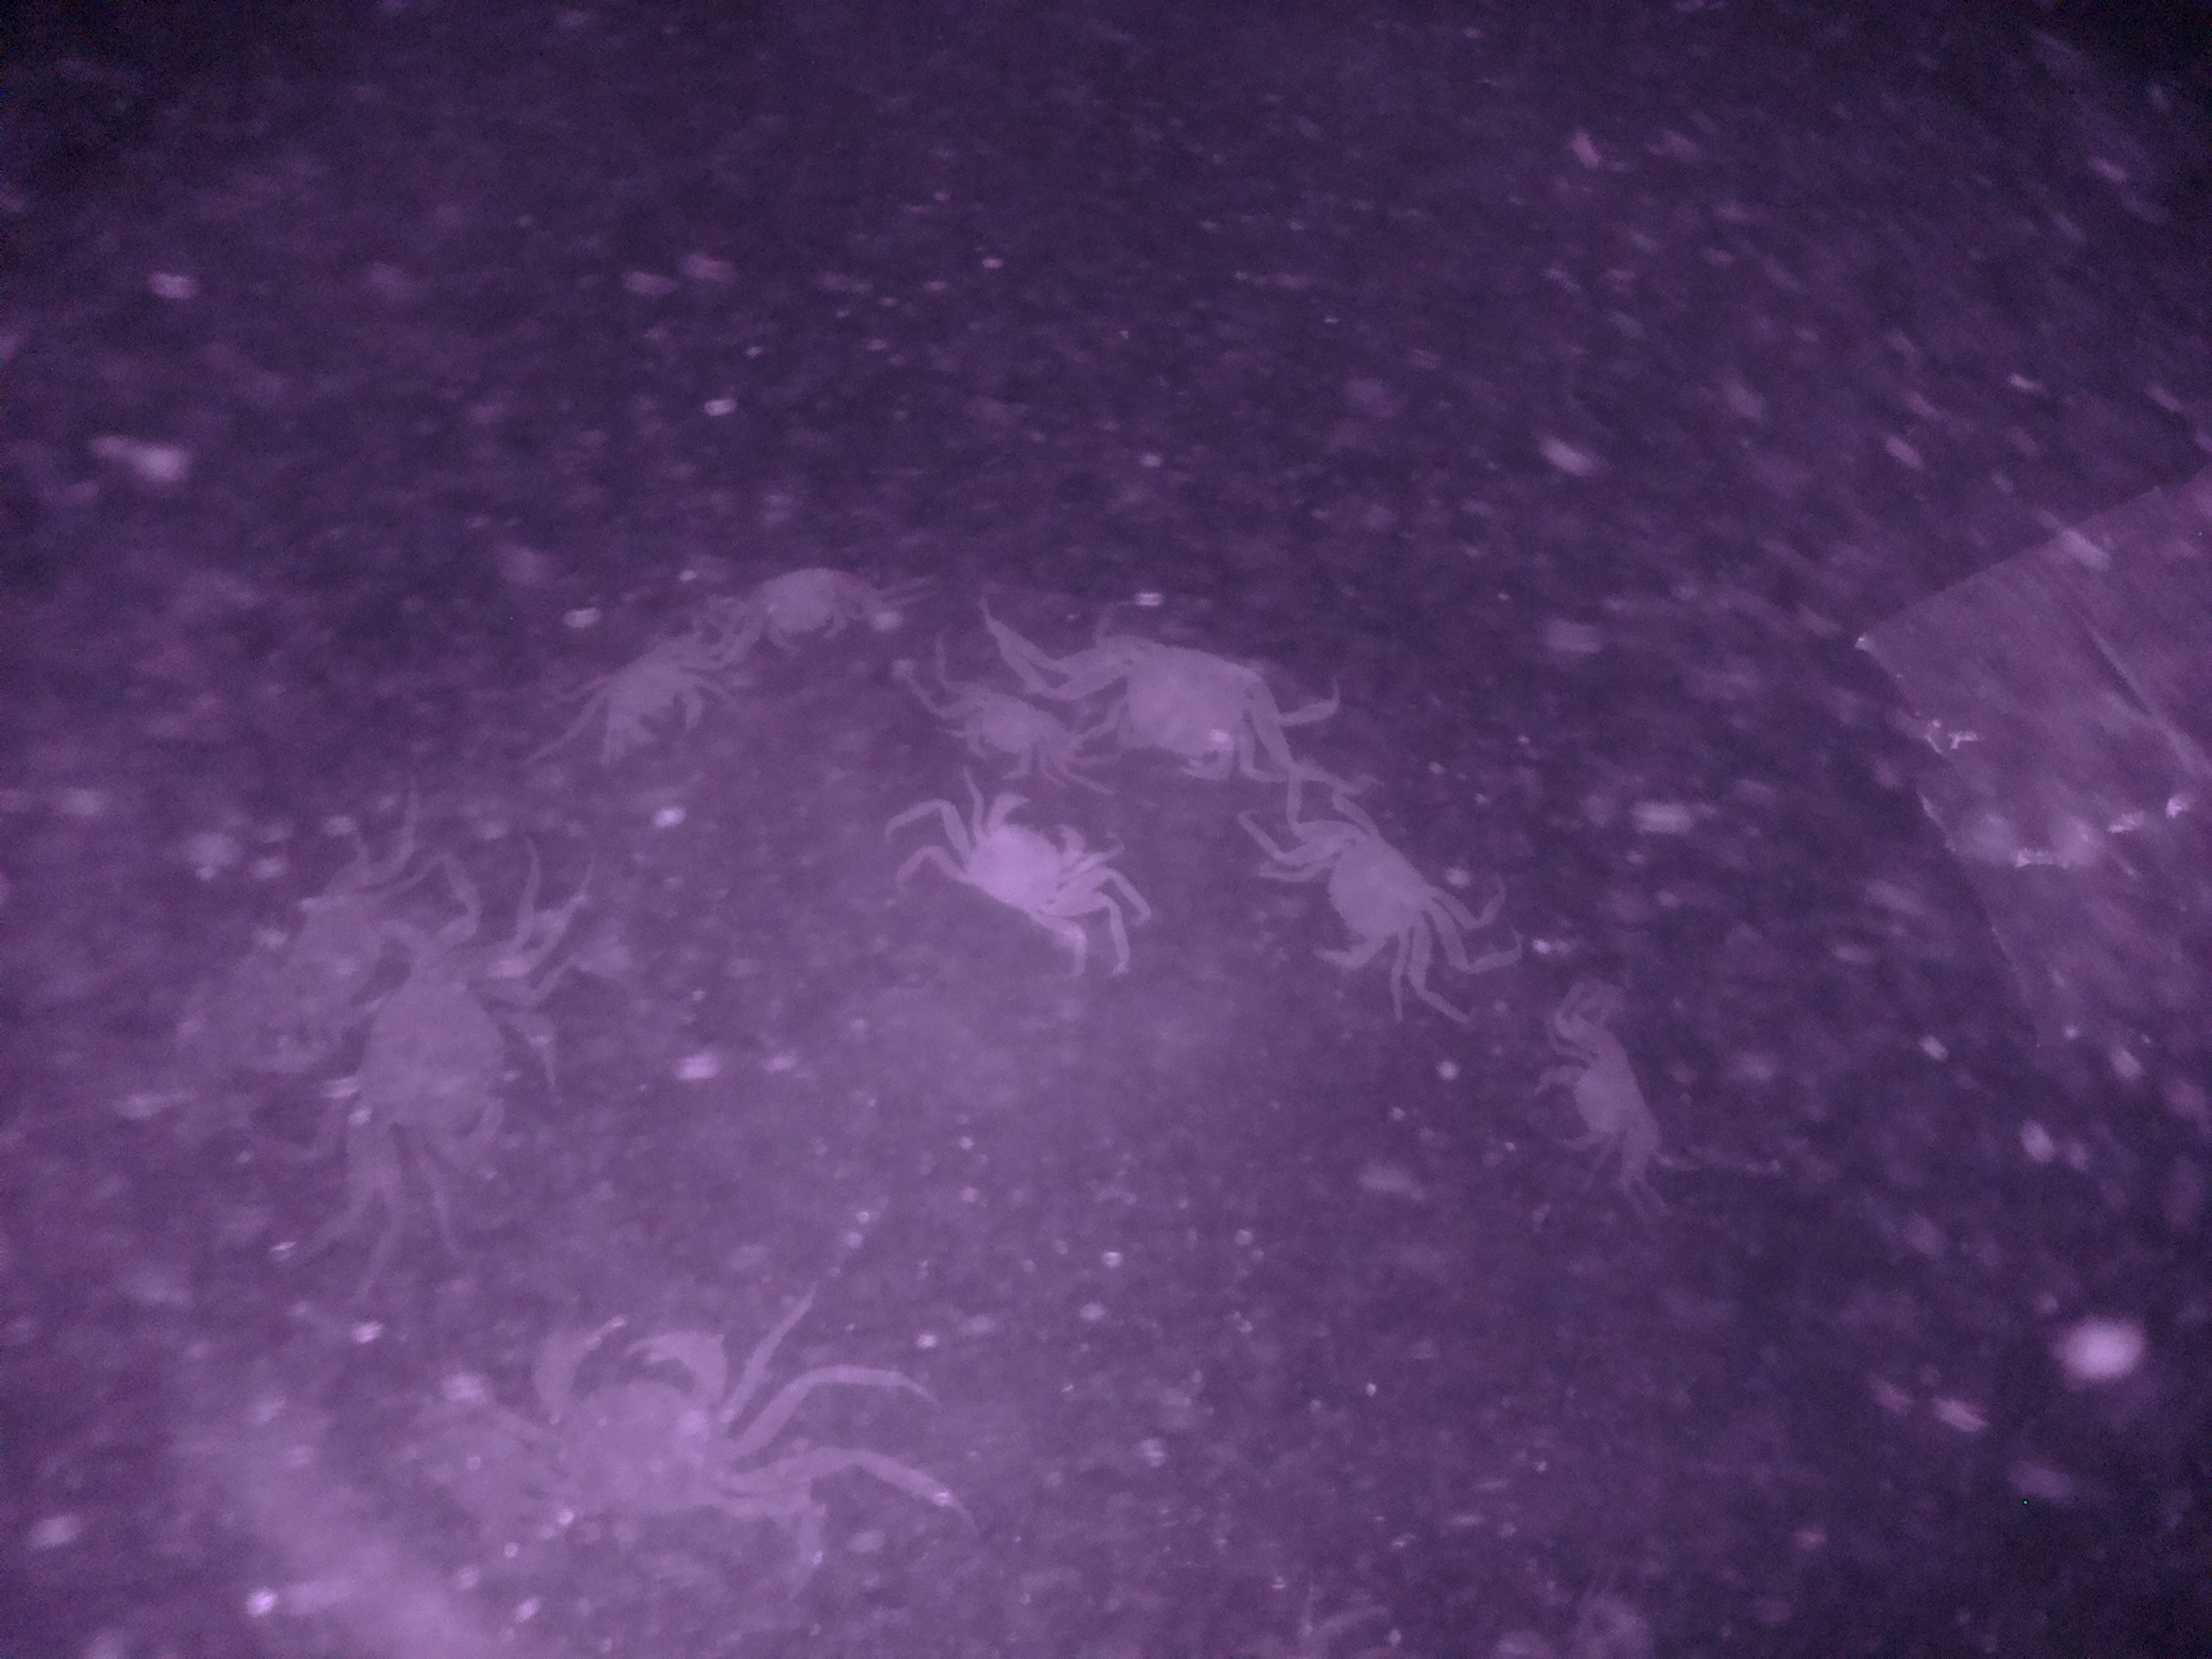Crab: (496, 1283, 796, 1558), (909, 763, 1146, 976), (1052, 610, 1303, 791), (1268, 777, 1472, 983), (566, 641, 754, 775), (921, 666, 1096, 786), (711, 547, 881, 664)
